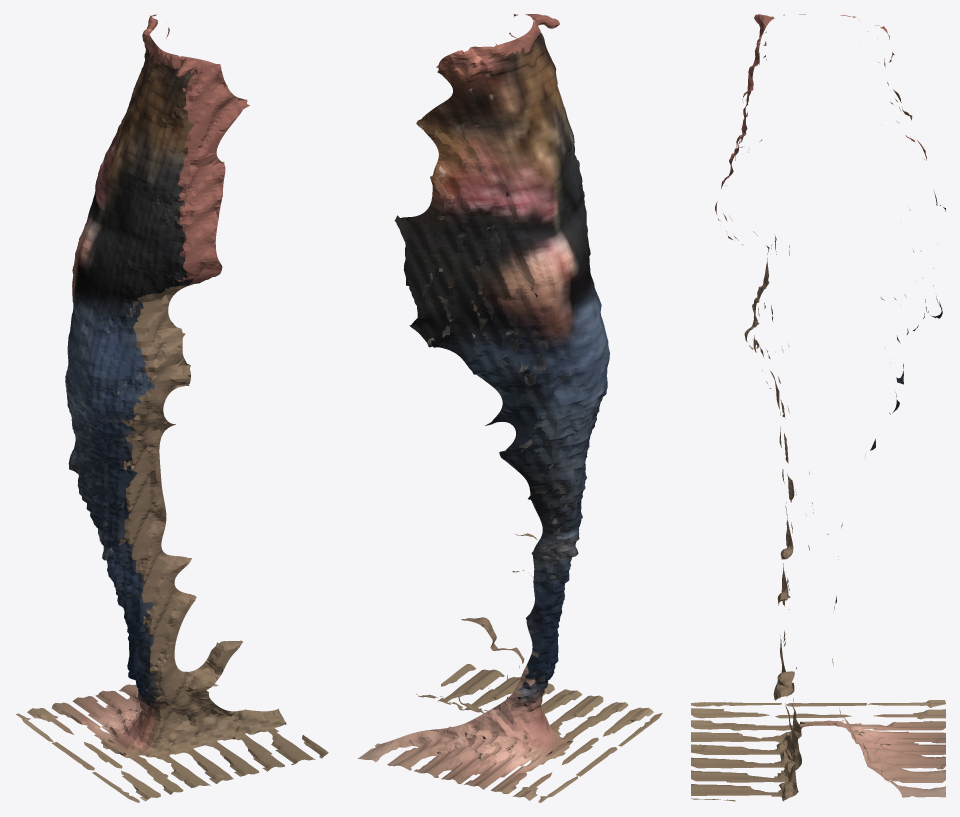
3 views of the same model, side by side, from view 1: azimuth 30°, elevation 25°; view 2: azimuth 150°, elevation 25°; view 3: azimuth 270°, elevation 25° (orthographic). The views are drawn at different scales.
Bounding box in the file's own units: 0.4111 × 1.4 × 0.4424.
Materials: 1 (1 with a texture image).
